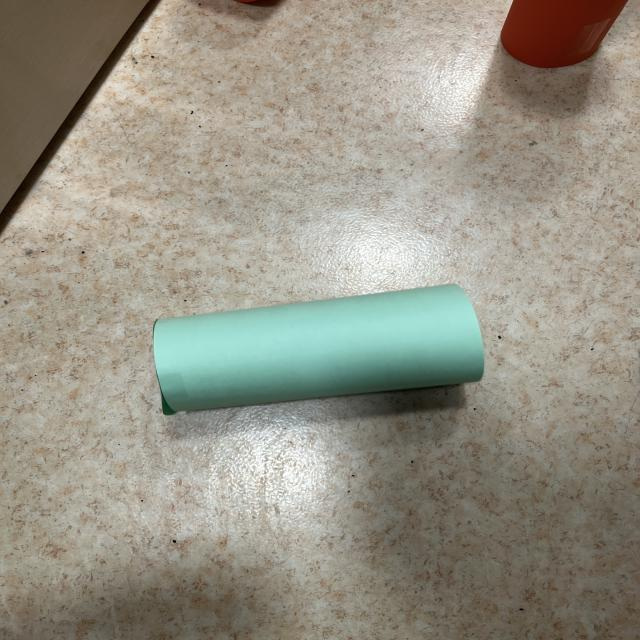meta: (153, 284, 484, 415)
